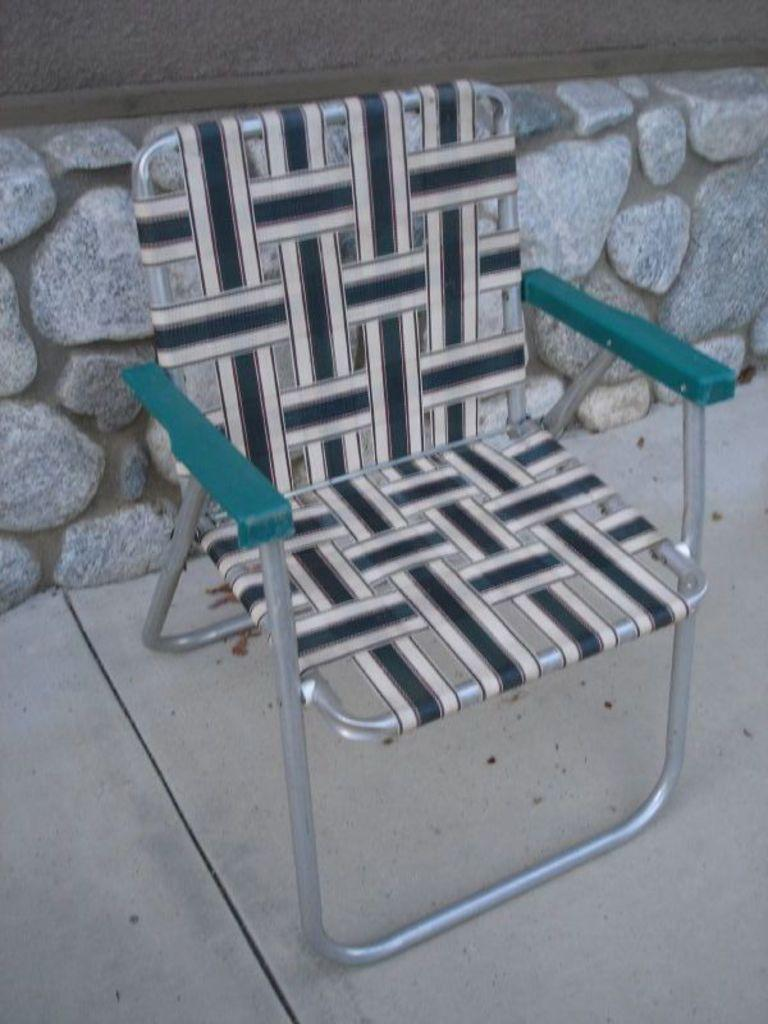Chair: (95, 72, 731, 989)
